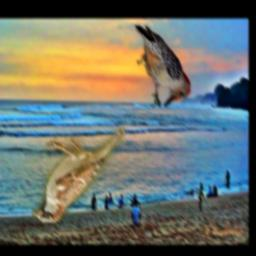Sparrow: (33, 127, 126, 222)
Woodpecker: (136, 26, 191, 107)
